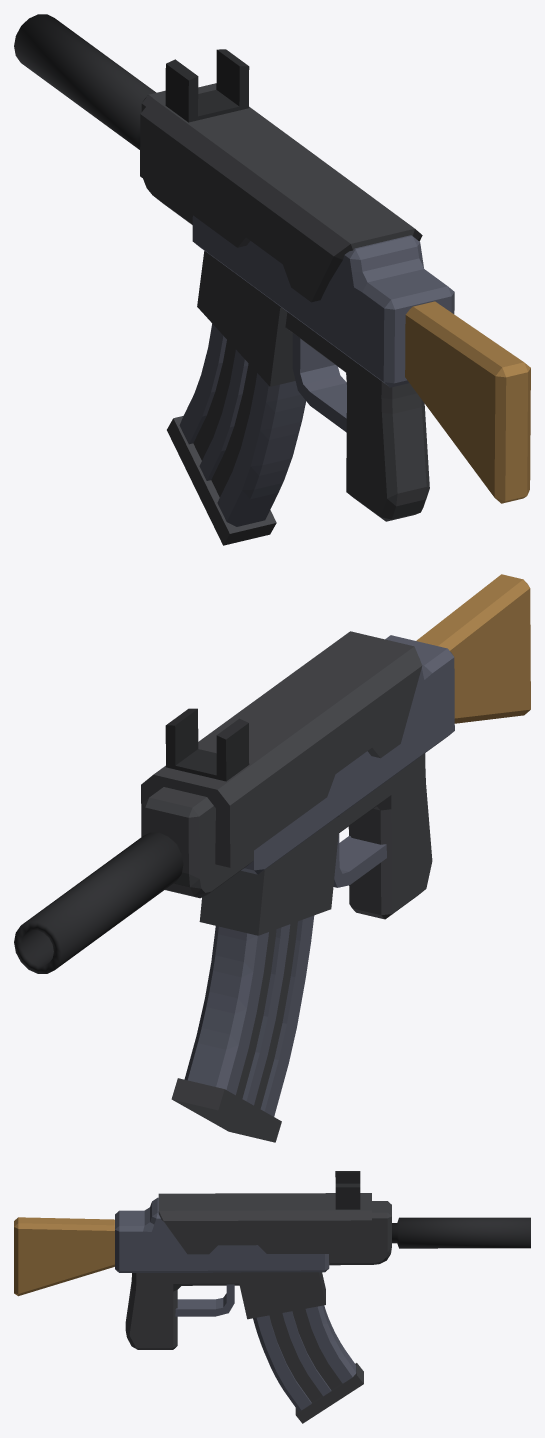
The model's file is model_mk-ramp.glb.
The picture shows the model from 3 angles, top to bottom: view 1: azimuth 30°, elevation 25°; view 2: azimuth 150°, elevation 25°; view 3: azimuth 270°, elevation 25°; orthographic projection. The views are drawn at different scales.
Visible parts, largest first — view 1: AK; view 2: AK; view 3: AK.
Boxes of the visible parts, bbox=[...] form: AK: bbox=[14, 14, 530, 545]; AK: bbox=[14, 574, 530, 1142]; AK: bbox=[14, 1171, 530, 1423].
Size of the model in its own units: 0.1537 by 0.7303 by 1.42.
